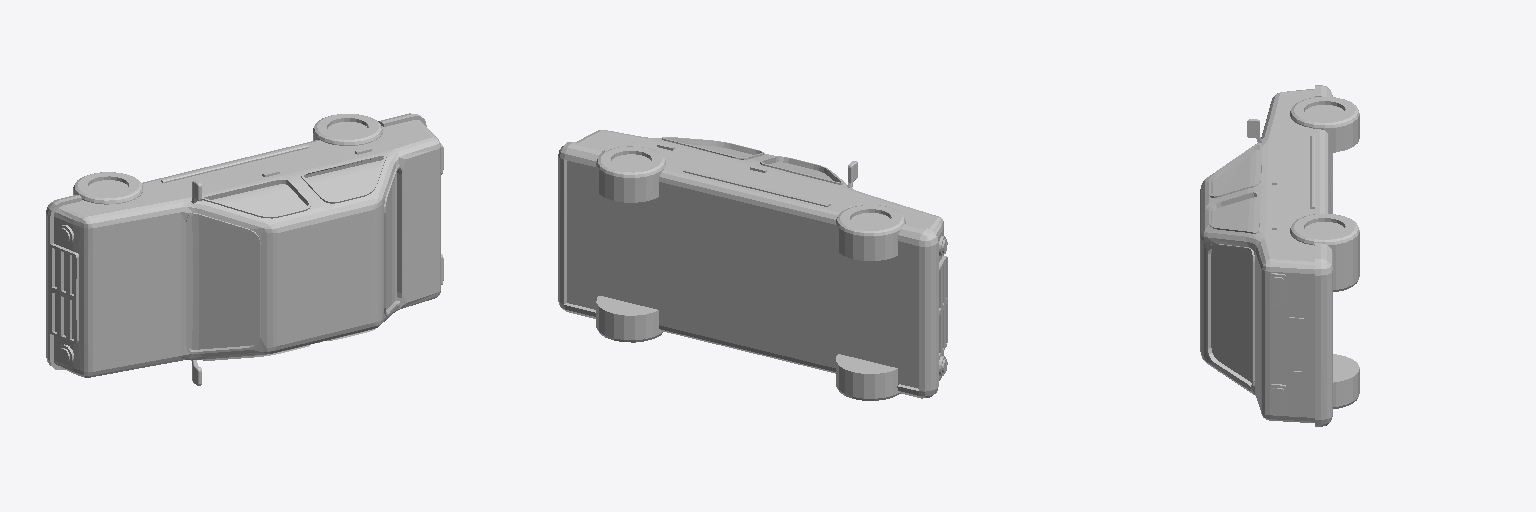
File: car.obj
The picture shows the model from 3 angles: view 1: azimuth 30°, elevation 25°; view 2: azimuth 150°, elevation 25°; view 3: azimuth 270°, elevation 25°; orthographic projection.
Parts seen in each view (by area): view 1: Car; view 2: Car; view 3: Car.
Part boxes in pixels (bbox=[...]): Car: bbox=[46, 113, 443, 385]; Car: bbox=[558, 130, 947, 400]; Car: bbox=[1200, 85, 1359, 426].
Bounding box in the file's own units: 55.33 × 28.4 × 20.34.